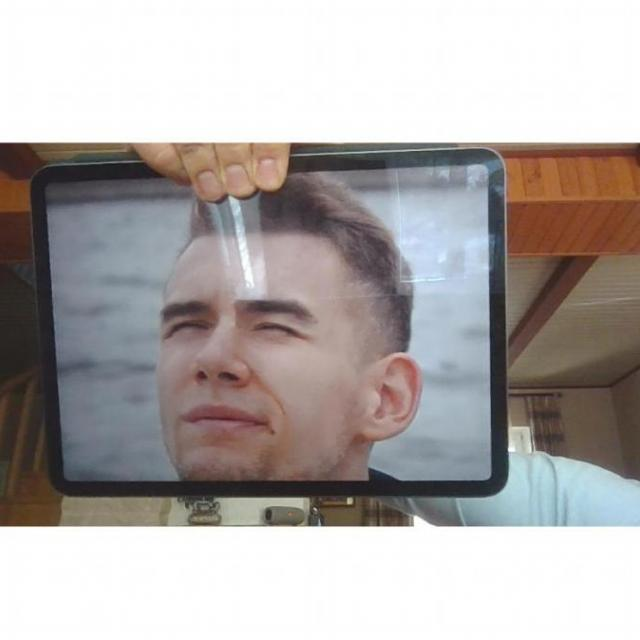device: (37, 166, 506, 495)
